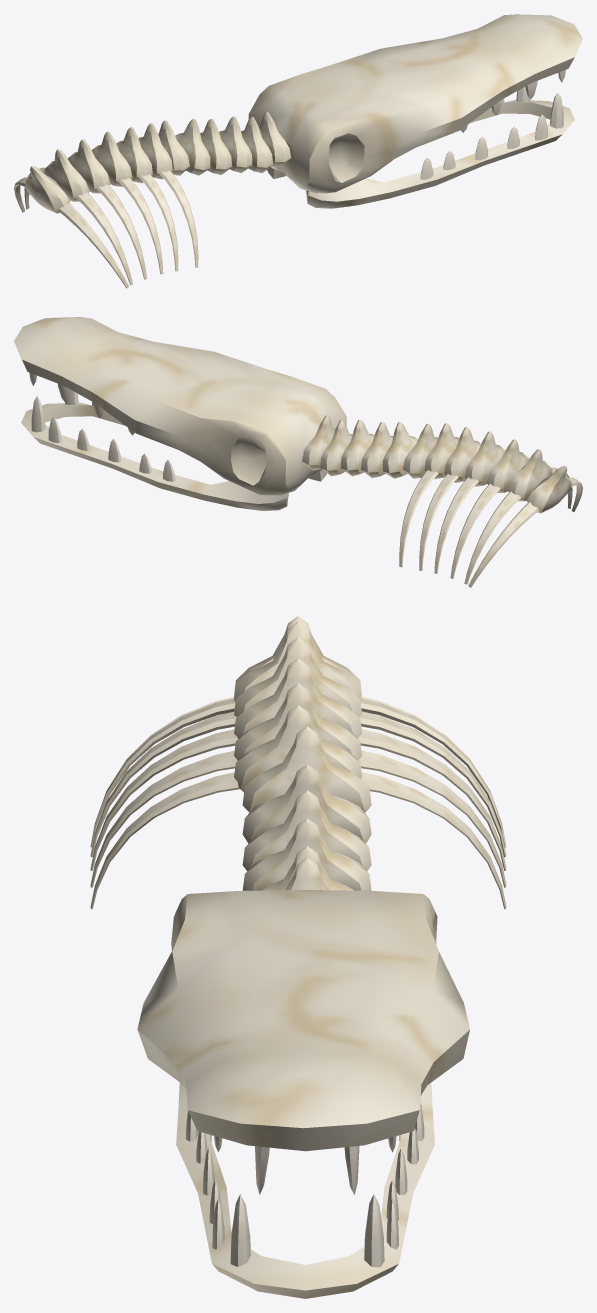
File: Decus_Skele_2.fbx
3 views of the same model, one above another, from view 1: azimuth 30°, elevation 25°; view 2: azimuth 150°, elevation 25°; view 3: azimuth 270°, elevation 25° (orthographic). The views are drawn at different scales.
Visible parts, largest first — view 1: Decus_Skele_2; view 2: Decus_Skele_2; view 3: Decus_Skele_2.
Part boxes in pixels (<box>): Decus_Skele_2: <box>14,14,582,288</box>; Decus_Skele_2: <box>14,317,582,587</box>; Decus_Skele_2: <box>90,616,506,1298</box>.
Size of the model in its own units: 342 by 68.21 by 114.
1 material, 1 textured.
